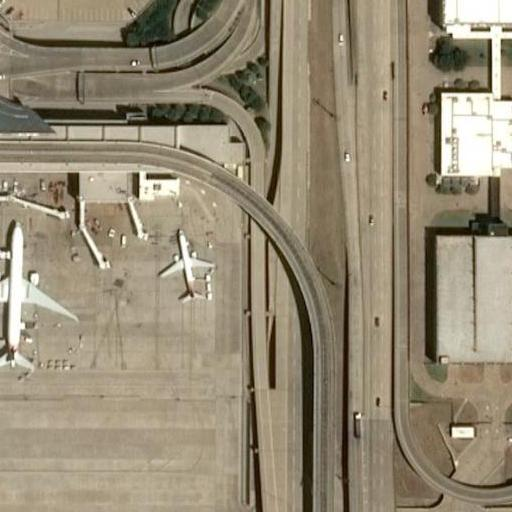Aircraft: (0, 220, 75, 368), (158, 228, 211, 298)
